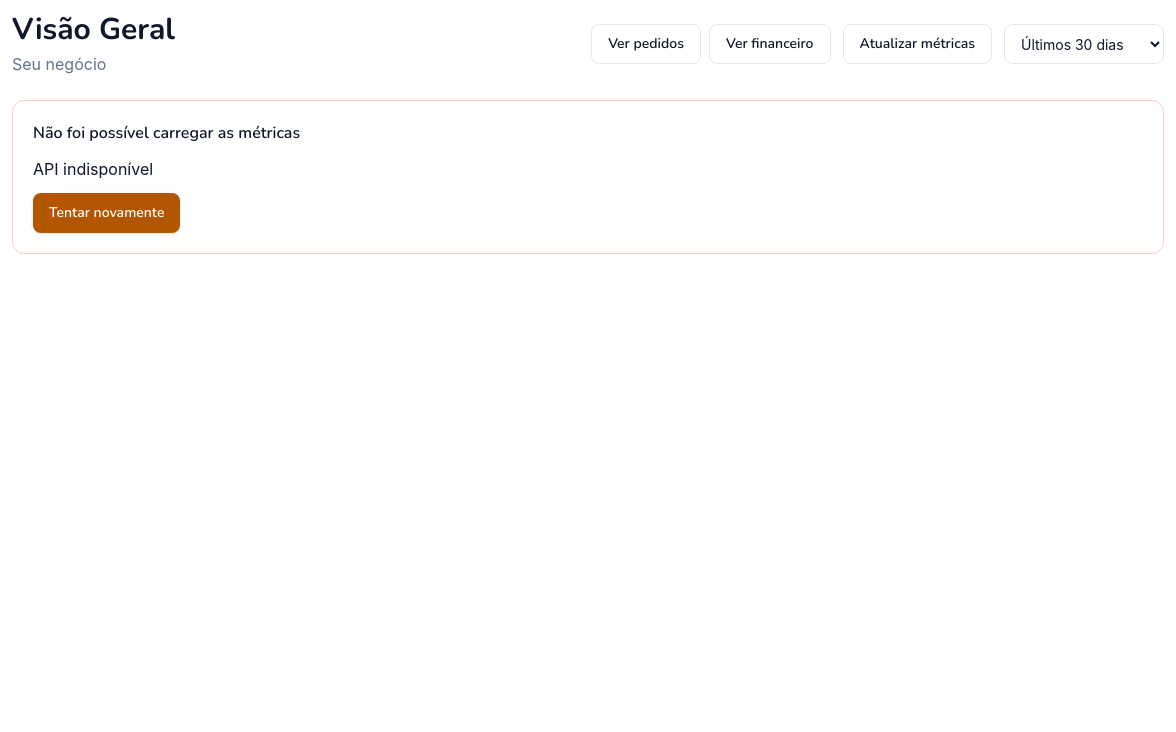
Test: DSH carregamento e falha não mostram zeros fictícios; retry recupera
Later steps or results of the test are not shown.
Check: the text "API indisponível" is shown, box [33,159,153,179]
Check: the text "Vendas reconhecidas" is not shown
Click the button "Tentar novamente".
click(107, 213)  # box [33,193,180,233]
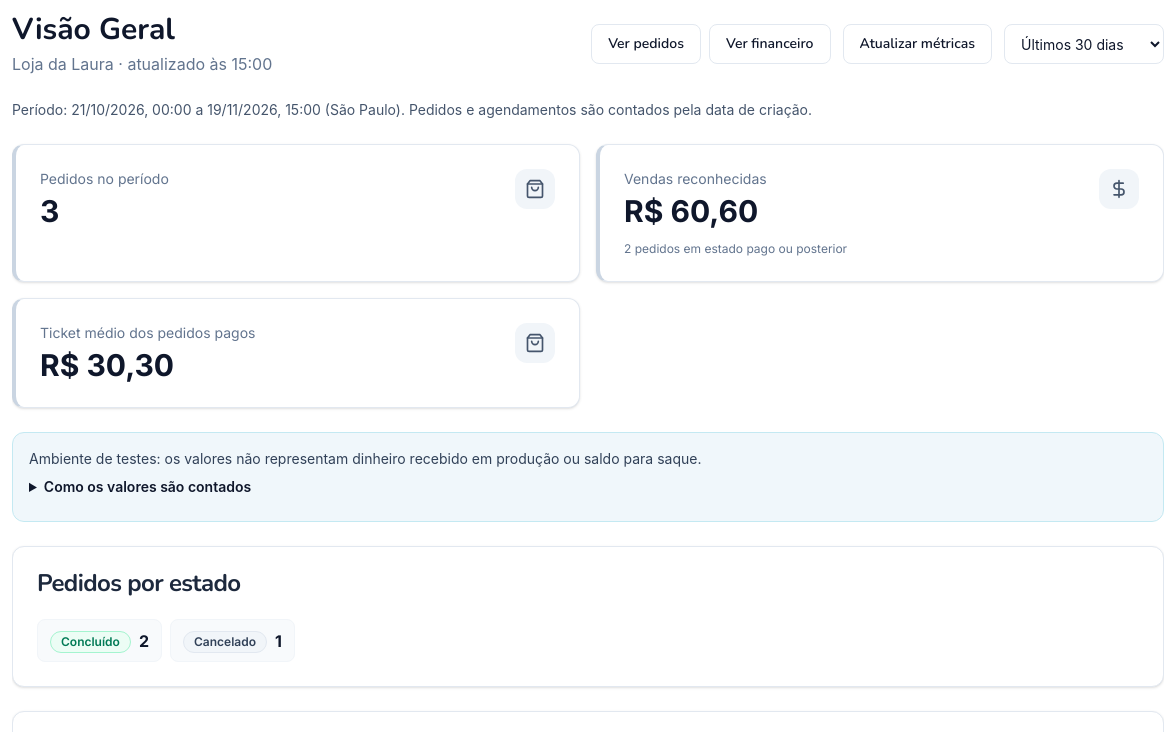
Check: the text "Loja da Laura" is shown, box [12,54,114,74]
